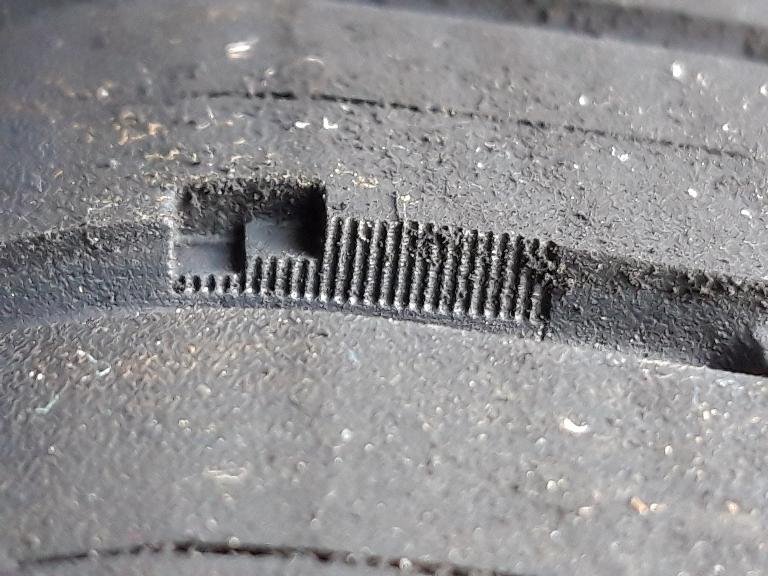temoin:50: (149, 167, 410, 321)
